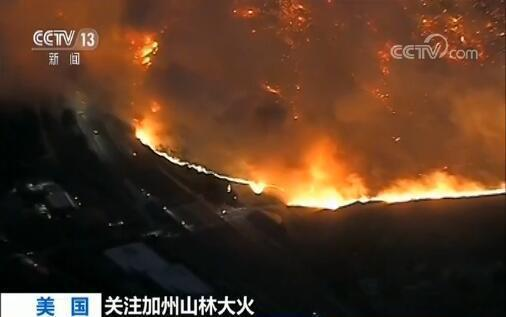fire: (235, 118, 499, 207), (117, 31, 185, 153)
